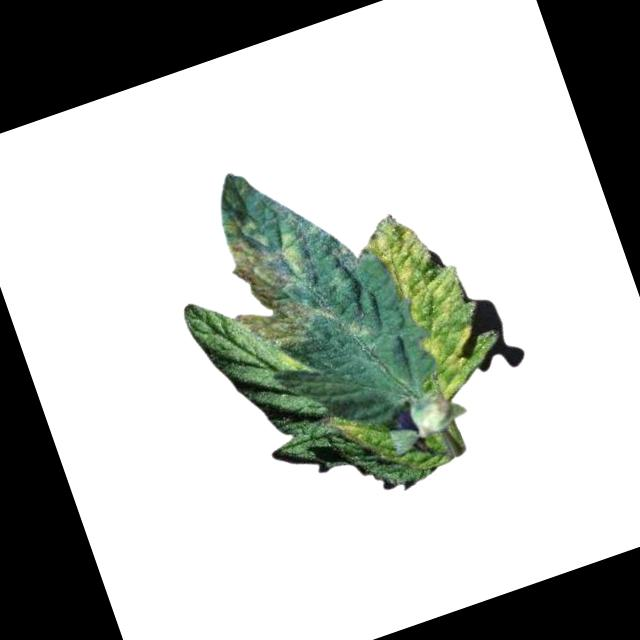Leaf_Mold: (357, 193, 517, 411), (188, 154, 345, 364), (323, 403, 369, 451)
